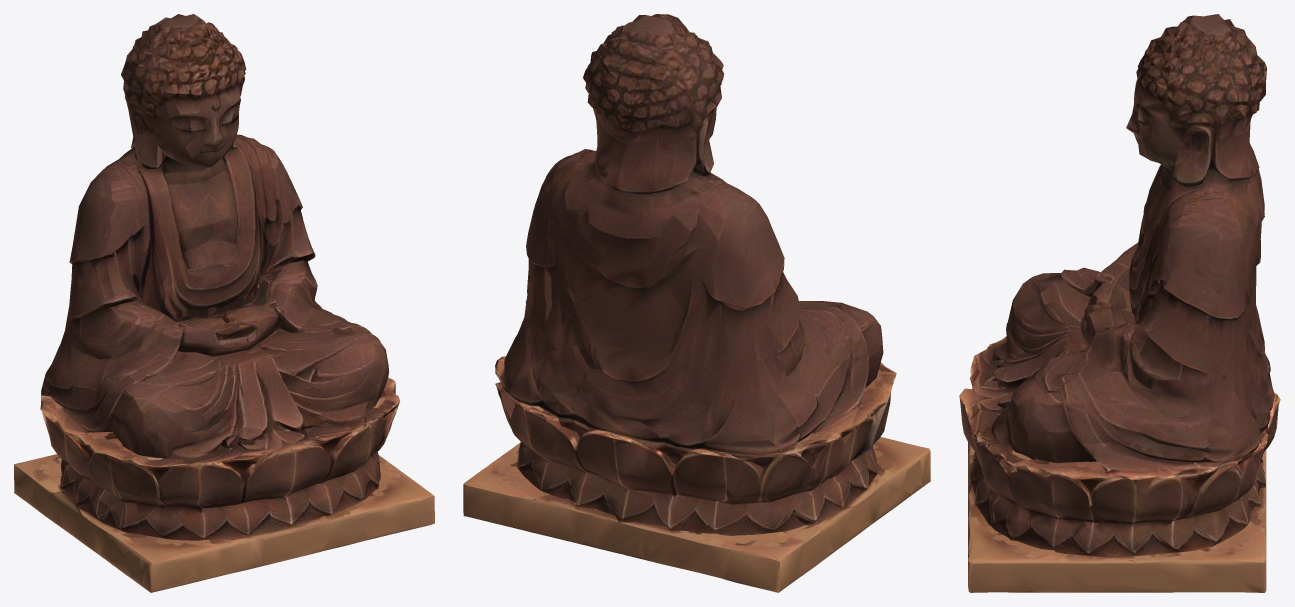
File: baguashan-great-buddha.glb
The picture shows the model from 3 angles, left to right: view 1: azimuth 30°, elevation 25°; view 2: azimuth 150°, elevation 25°; view 3: azimuth 270°, elevation 25°; orthographic projection. The views are drawn at different scales.
Parts seen in each view (by area): view 1: logan-textured.obj; view 2: logan-textured.obj; view 3: logan-textured.obj.
Part boxes in pixels (box(x1,y1,x2,y2)): logan-textured.obj: box(14, 14, 434, 592); logan-textured.obj: box(463, 14, 930, 592); logan-textured.obj: box(959, 14, 1280, 592).
Size of the model in its own units: 0.7029 by 1 by 0.586.
1 material, 1 textured.
